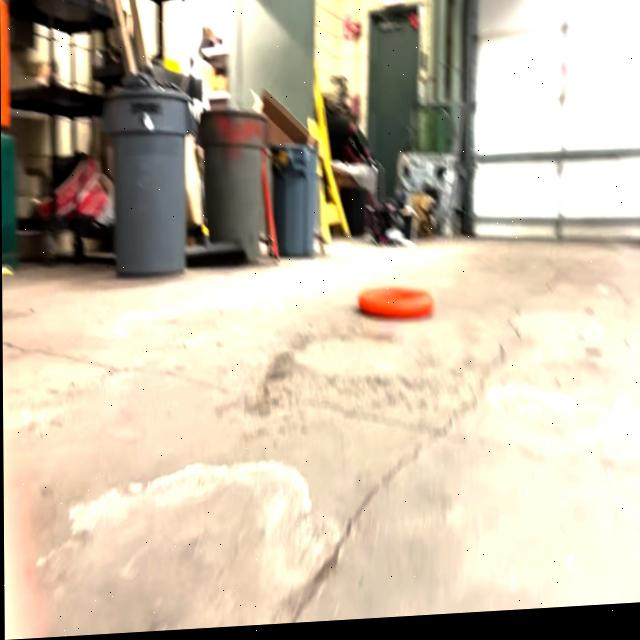note: (356, 285, 433, 325)
